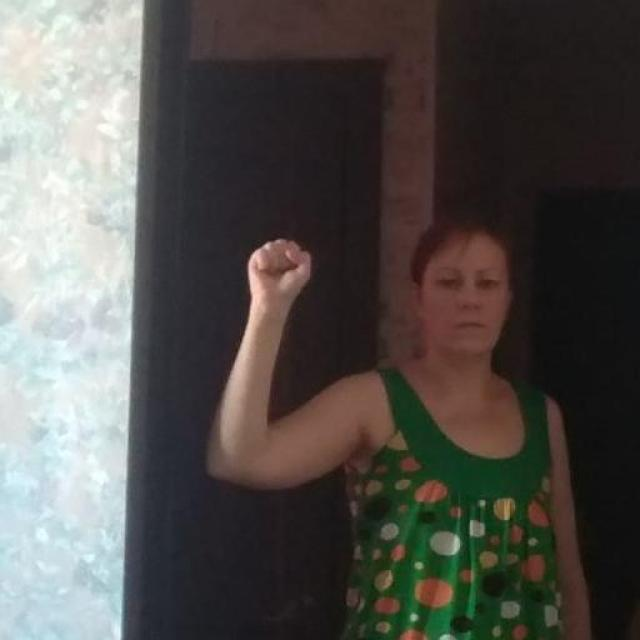hand: (246, 236, 312, 309)
